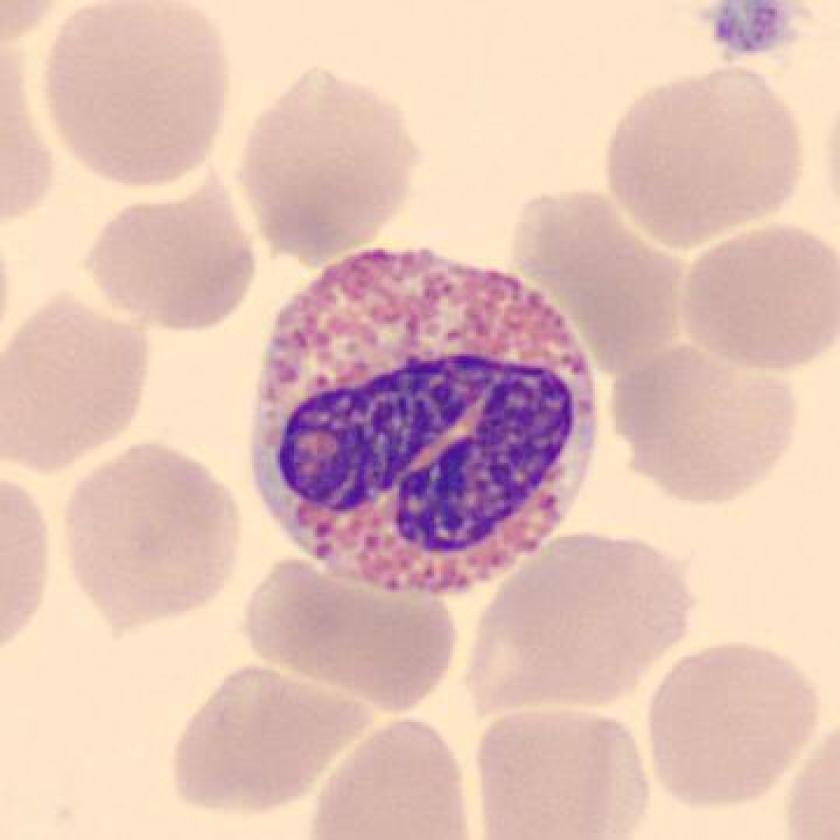eosinophil: (241, 235, 610, 610)
